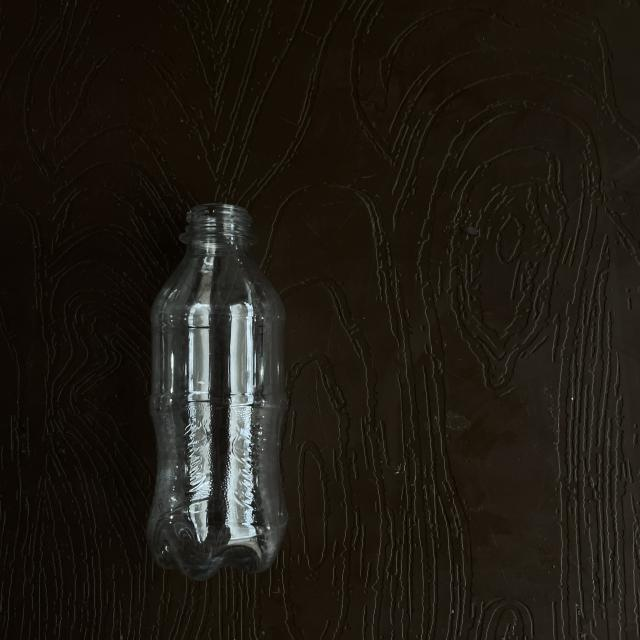PET_ClearBottle: (138, 203, 314, 574)
